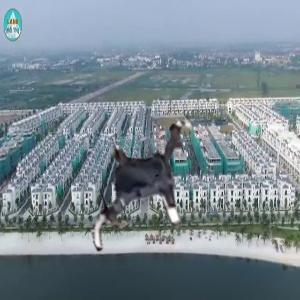drone: (67, 107, 221, 261)
